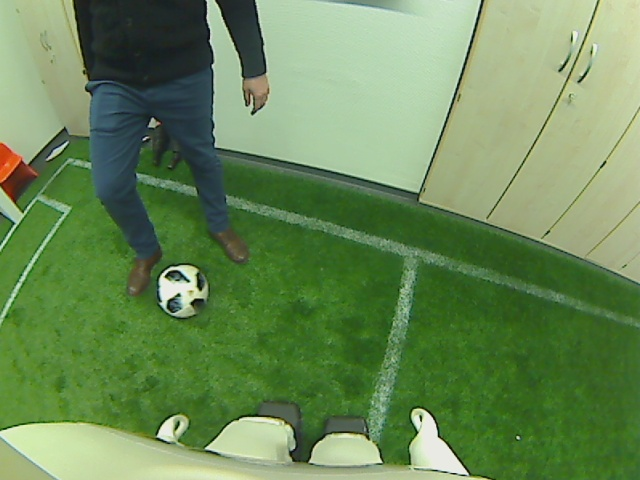ball: (155, 262, 209, 320)
